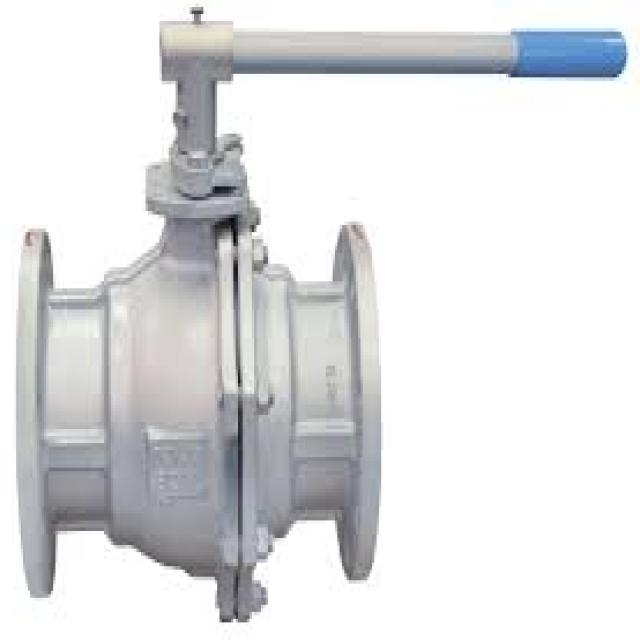Lever Handle Valve Threaded: (136, 12, 631, 98)
